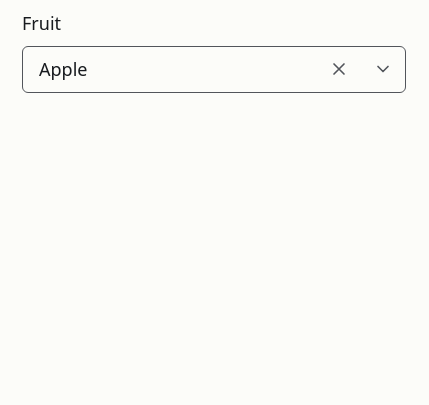
Test case: single selection › closes on Escape and restores the selected label
Click the dropdown: (170, 69) [23,47,317,92]
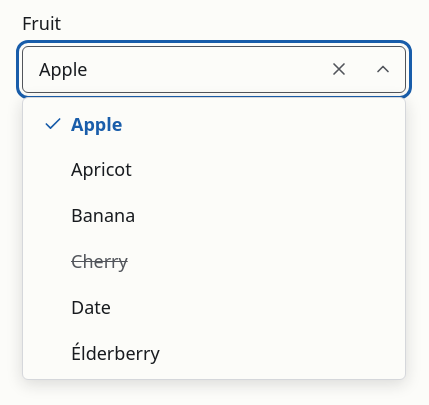
Press Backspace Backspace
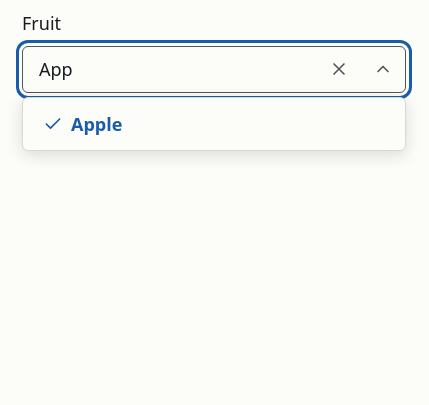
Result: the dropdown holds "App" at [23,47,317,92]
Press Escape
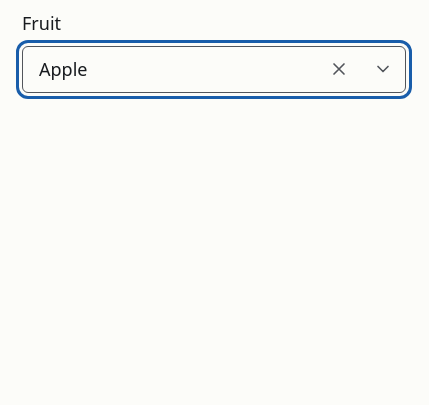
Result: the dropdown is collapsed at [23,47,317,92]
Result: the dropdown holds "Apple" at [23,47,317,92]
